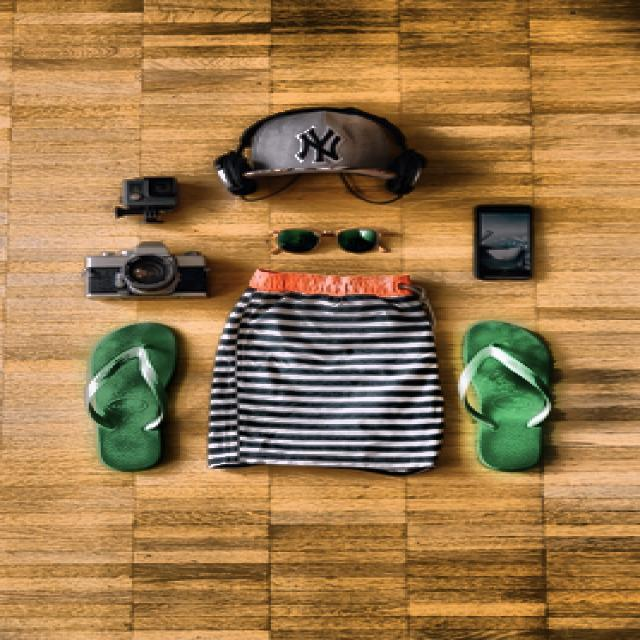Phone: (475, 203, 535, 280)
